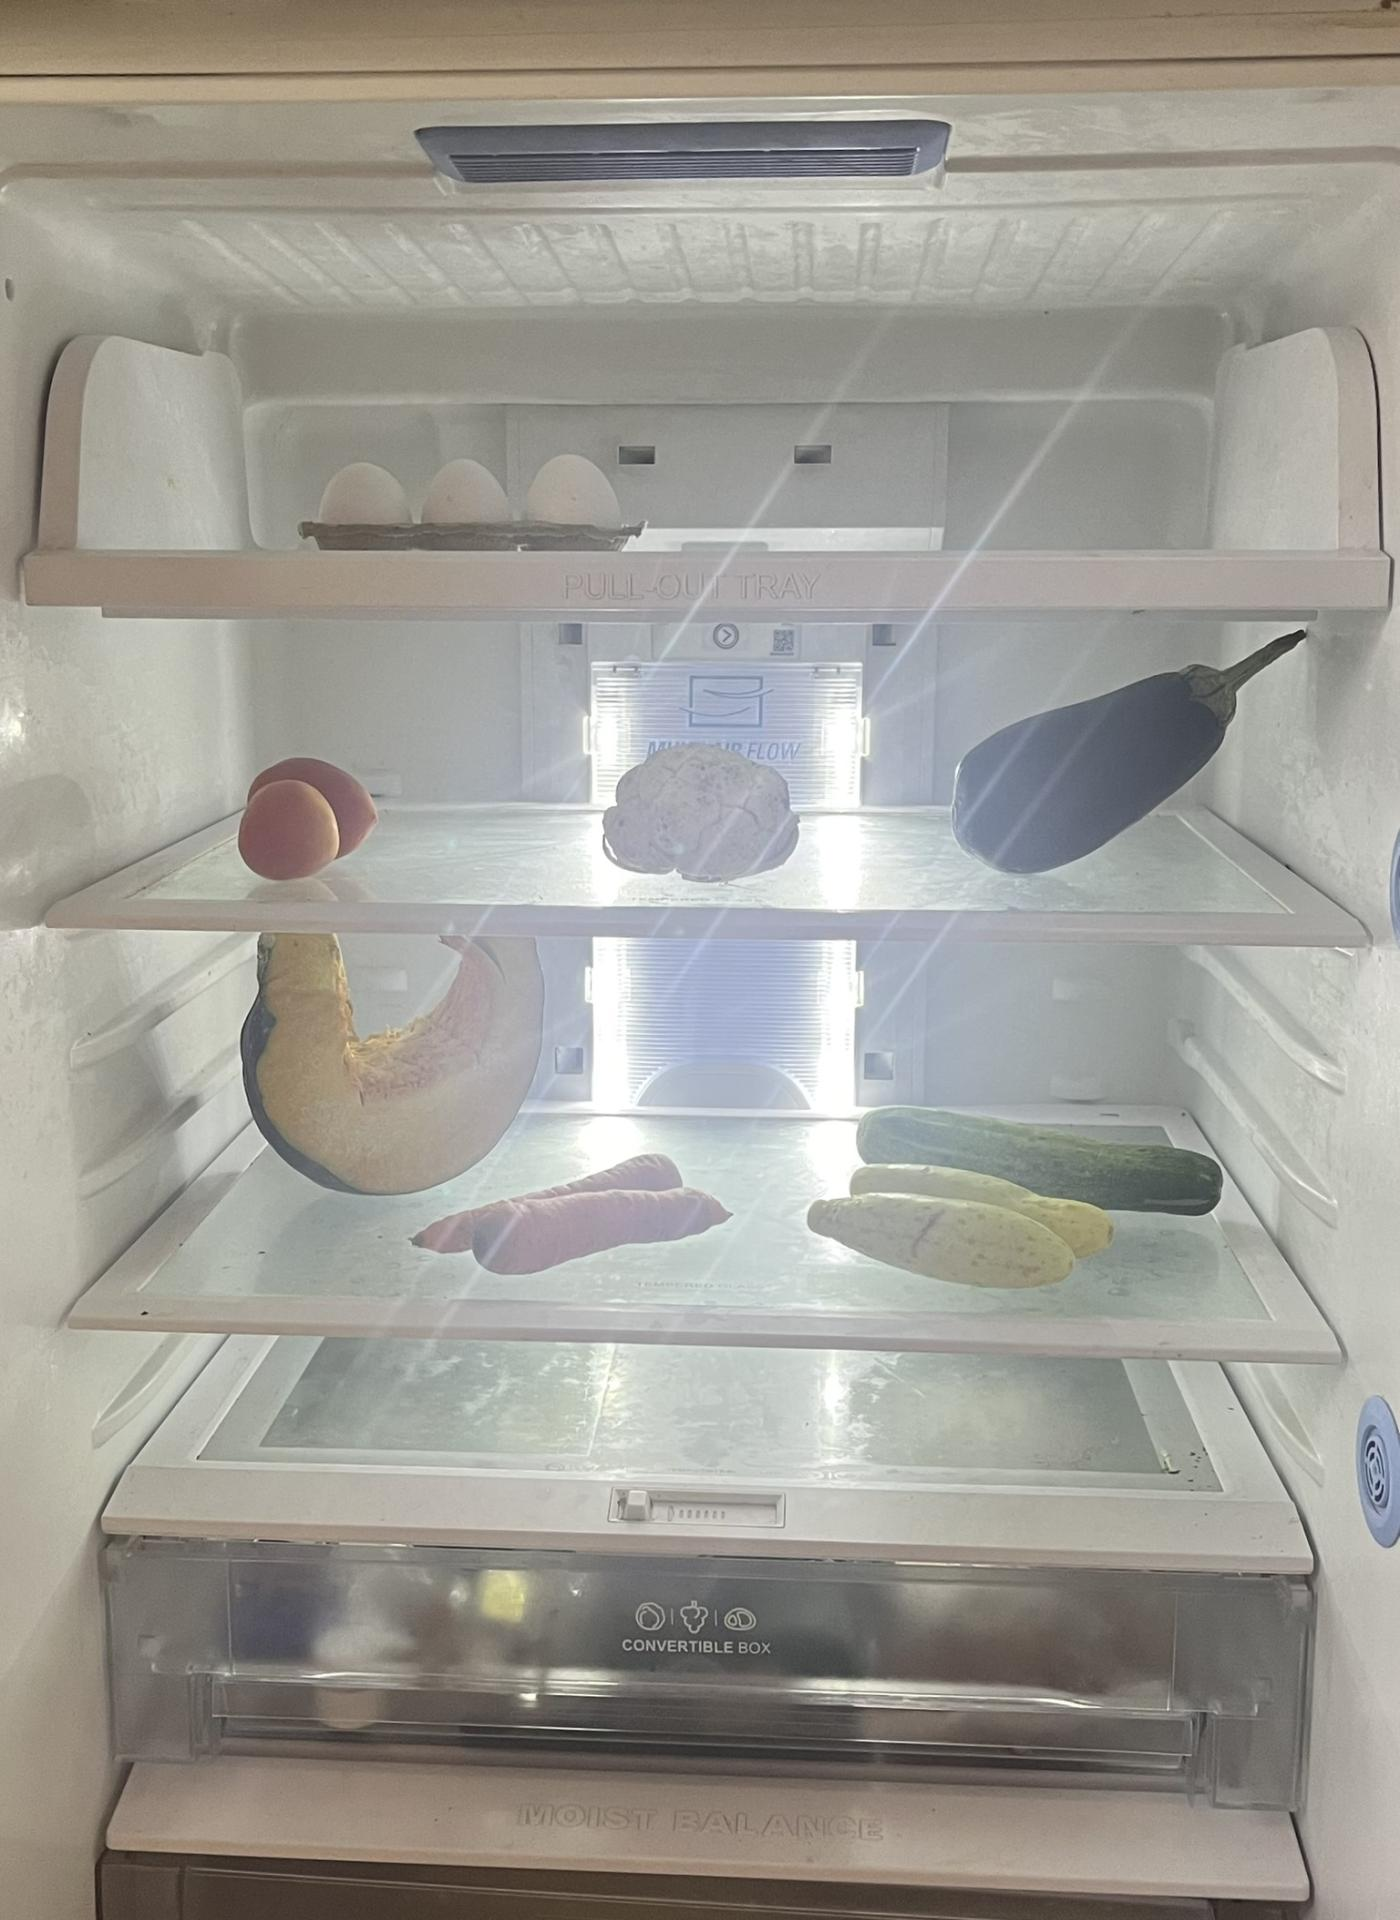carrots: (407, 1151, 704, 1280)
cauliflower: (604, 742, 799, 881)
cucumber: (804, 1155, 1121, 1286), (863, 1099, 1214, 1209)
egg: (312, 461, 635, 552)
pumpkin: (256, 930, 538, 1196)
tomato: (233, 747, 374, 877)
